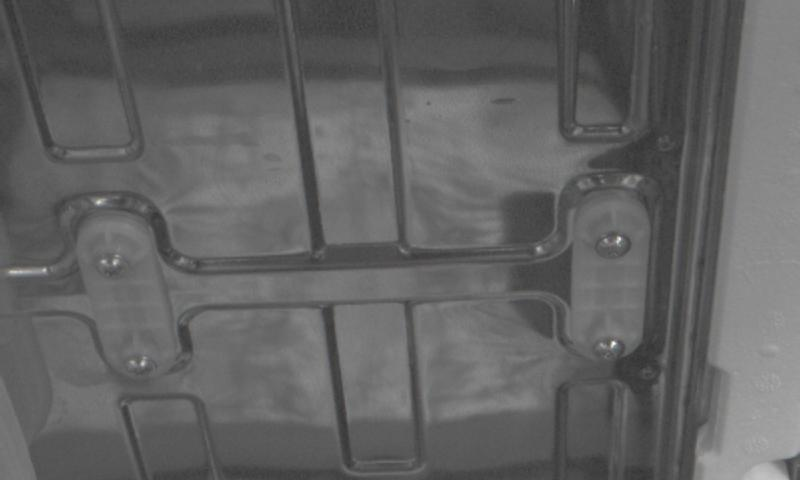vida-ok: (597, 219, 640, 264), (94, 242, 134, 287), (120, 341, 162, 381), (596, 323, 636, 362)
